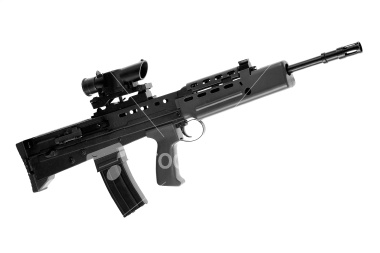rifle: (12, 39, 364, 221)
